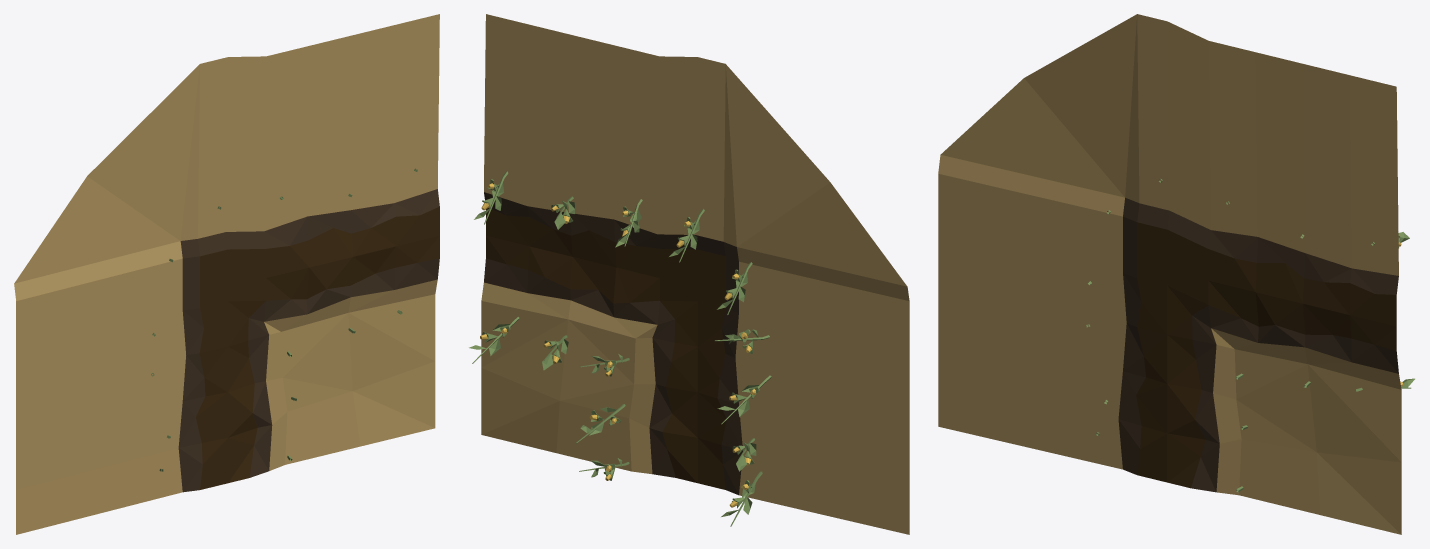
The model's file is pole2.fbx.
3 views of the same model, side by side, from view 1: azimuth 30°, elevation 25°; view 2: azimuth 150°, elevation 25°; view 3: azimuth 330°, elevation 25° (orthographic). The views are drawn at different scales.
Parts seen in each view (by area): view 1: pole2; view 2: pole2; view 3: pole2.
Boxes of the visible parts, x1,y1,x2,y2 form: pole2: (14, 14, 439, 534); pole2: (469, 14, 909, 534); pole2: (938, 14, 1414, 534).
Bounding box in the file's own units: 3232 × 3118 × 540.
